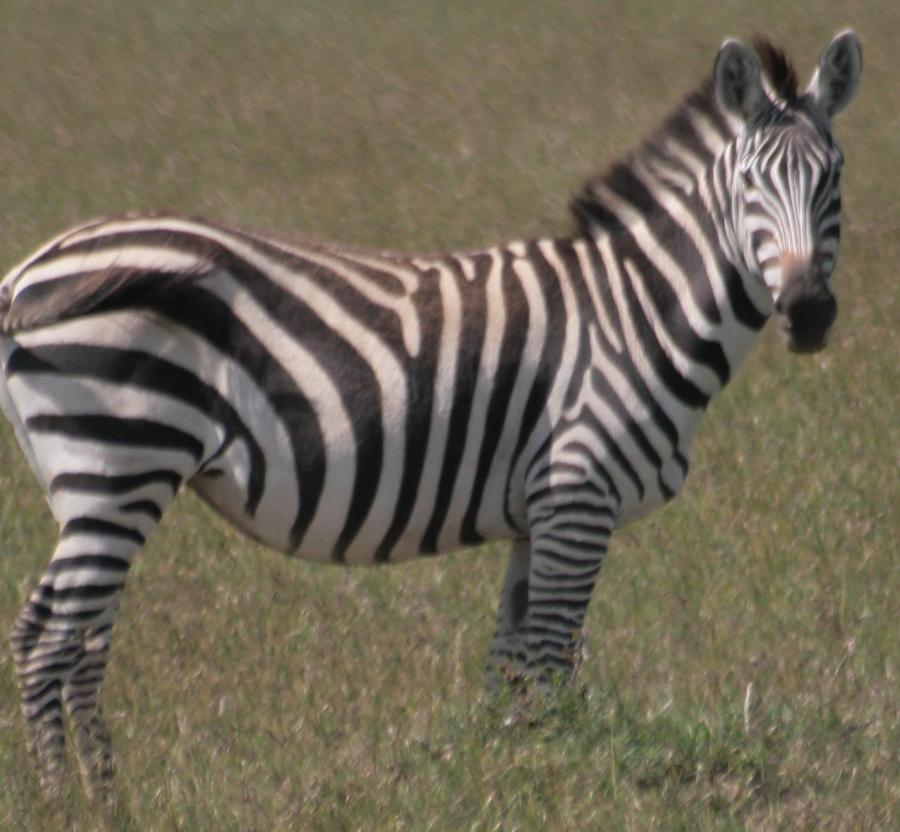zebra_plains: (13, 185, 728, 578)
